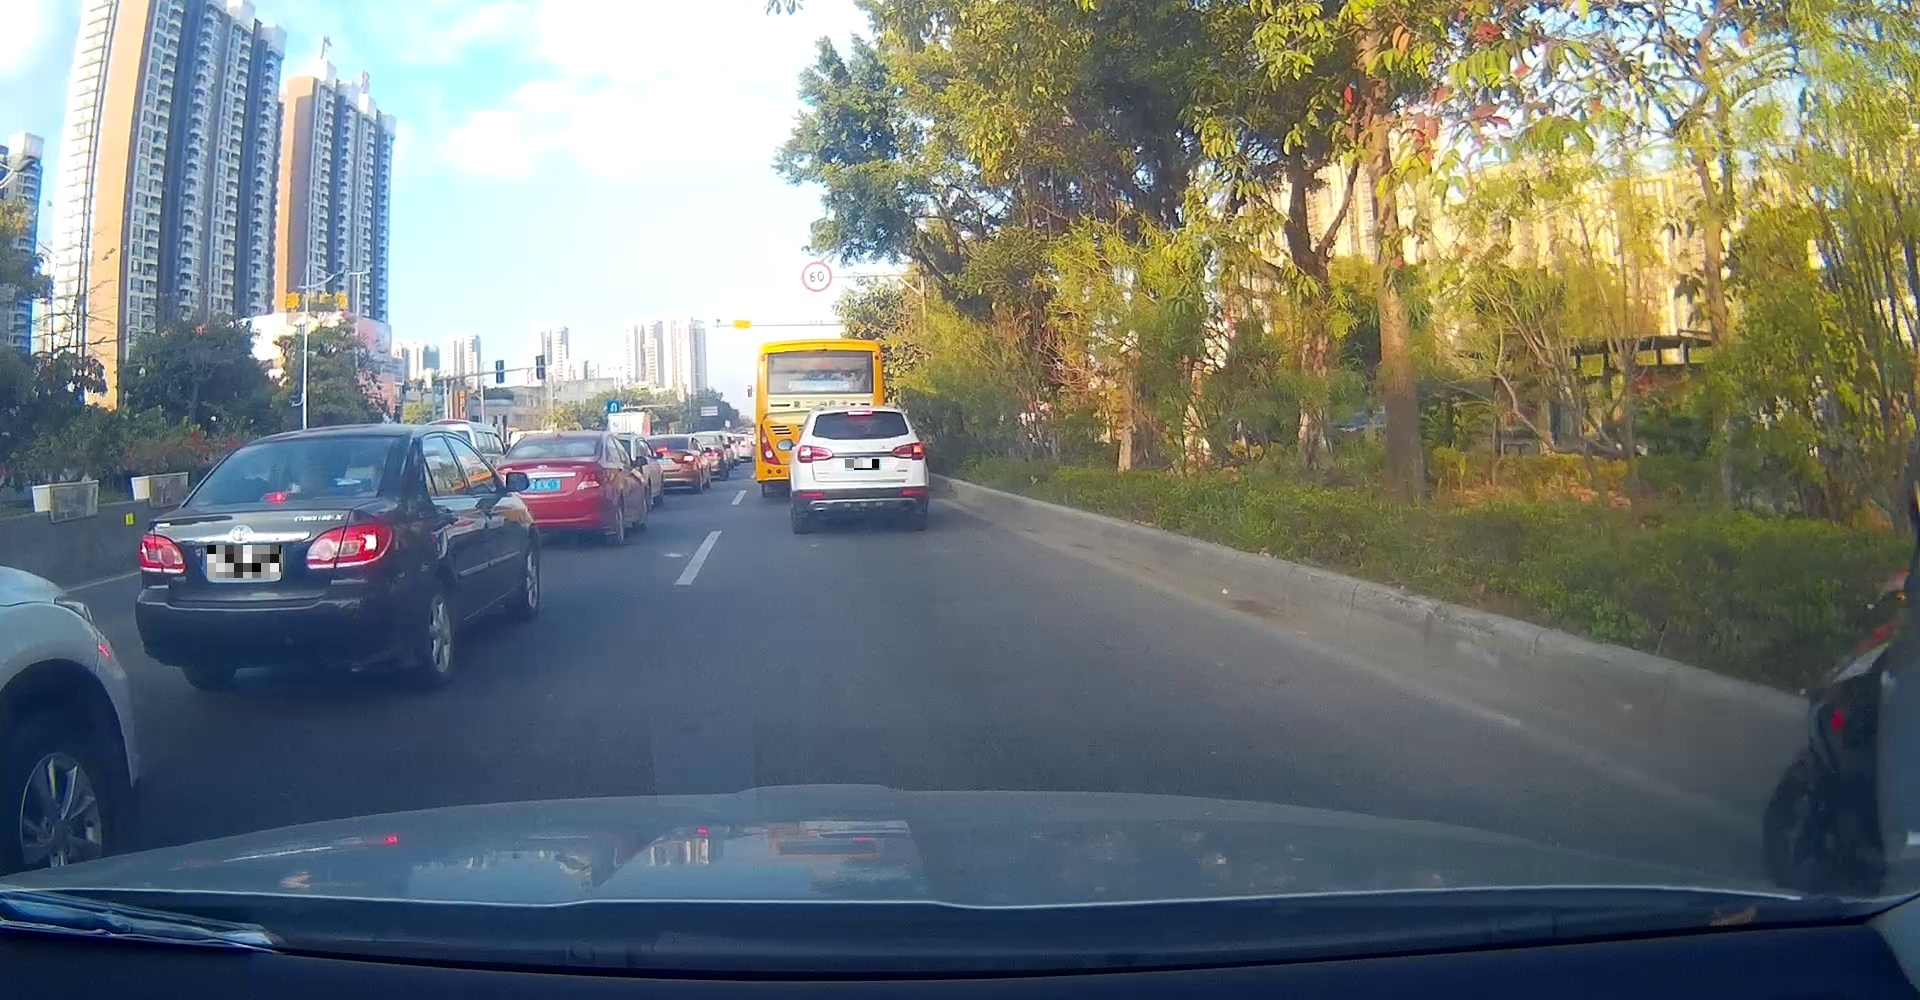L_light: (138, 532, 185, 574), (797, 445, 834, 463)
R_light: (306, 522, 392, 569), (890, 442, 924, 459)
T_light: (259, 492, 287, 503), (848, 411, 872, 415)
day-brake: (135, 426, 411, 689), (792, 406, 928, 530)
plate_1: (207, 544, 281, 577)
plate_2: (844, 459, 879, 470)
